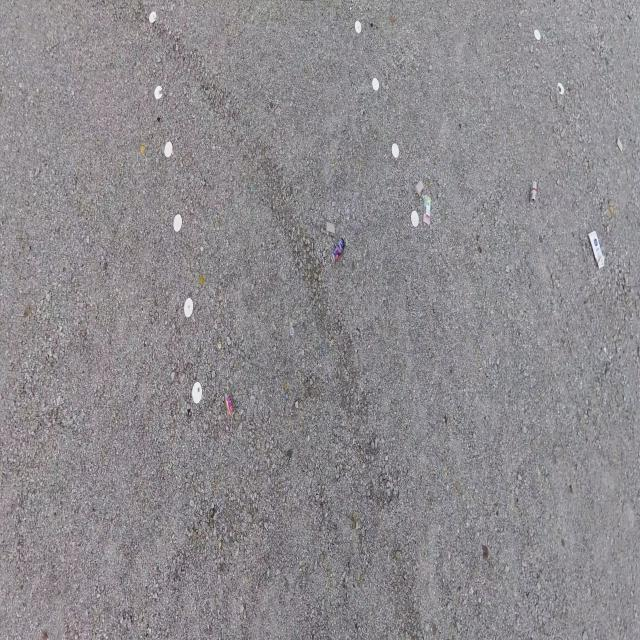rubbish: (588, 229, 605, 269), (332, 237, 347, 266), (423, 195, 431, 226), (225, 396, 234, 417), (530, 178, 537, 203), (415, 180, 425, 194), (326, 223, 336, 235), (616, 137, 624, 152)
